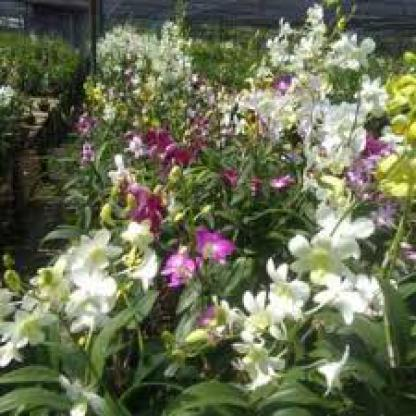ANGGREK: (129, 71, 397, 391)
